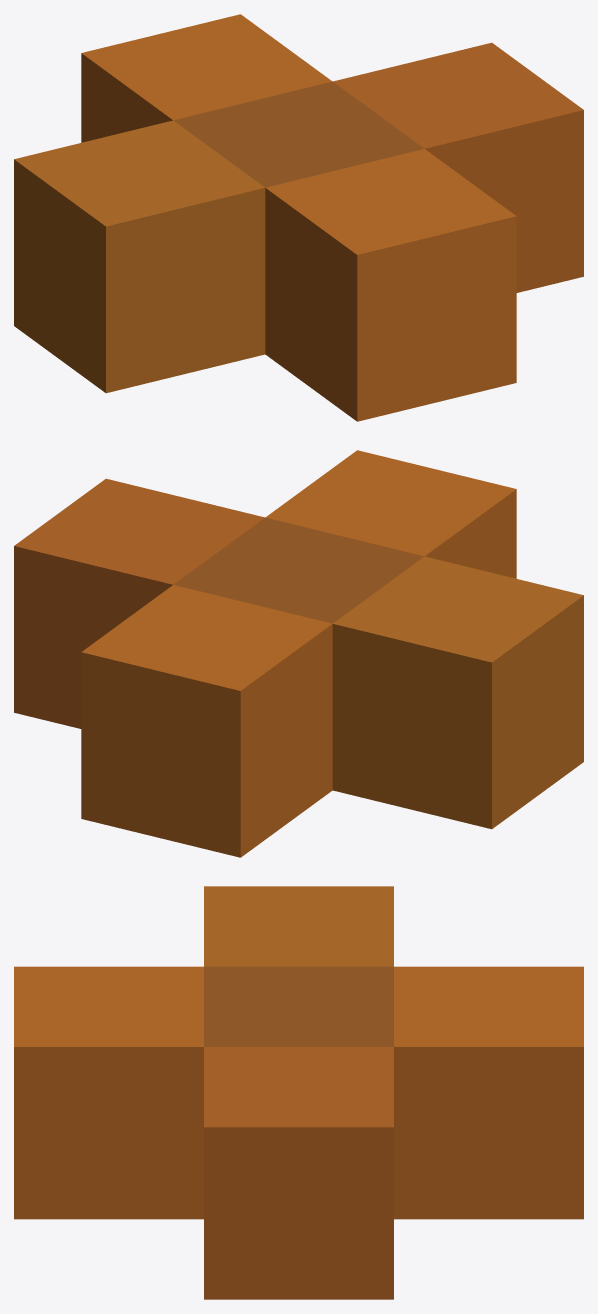
The model's file is tavern_bread.glb.
3 views of the same model, one above another, from view 1: azimuth 30°, elevation 25°; view 2: azimuth 150°, elevation 25°; view 3: azimuth 270°, elevation 25° (orthographic). The views are drawn at different scales.
Parts seen in each view (by area): view 1: tavern_bread; view 2: tavern_bread; view 3: tavern_bread.
Boxes of the visible parts, left/top/right/bottom form: tavern_bread: left=14, top=14, right=583, bottom=421; tavern_bread: left=14, top=450, right=583, bottom=857; tavern_bread: left=14, top=886, right=583, bottom=1299.
Bounding box in the file's own units: 0.75 × 0.25 × 0.75.
1 material, 1 textured.
